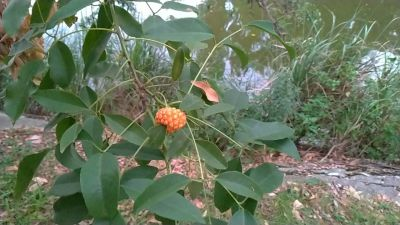eggs: (158, 103, 190, 130)
